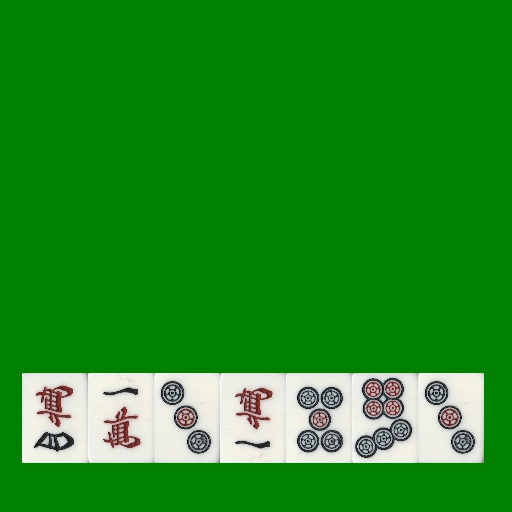1m: (88, 373, 154, 463), (220, 373, 286, 463)
3p: (154, 373, 220, 463), (418, 373, 484, 463)
4m: (22, 373, 88, 463)
5p: (286, 373, 352, 463)
7p: (352, 373, 418, 463)
